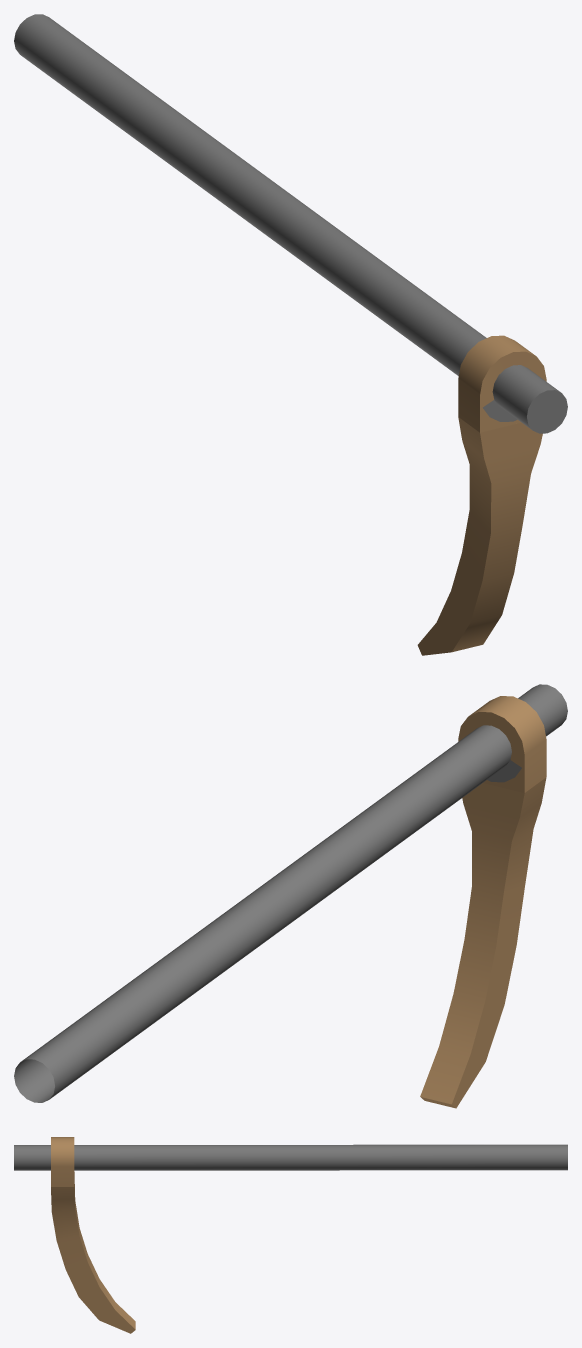
File: pickaxe_01.fbx
The picture shows the model from 3 angles, top to bottom: view 1: azimuth 30°, elevation 25°; view 2: azimuth 150°, elevation 25°; view 3: azimuth 270°, elevation 25°; orthographic projection. The views are drawn at different scales.
Parts seen in each view (by area): view 1: pickaxe_01; view 2: pickaxe_01; view 3: pickaxe_01.
Boxes of the visible parts, x1,y1,x2,y2 form: pickaxe_01: (14, 14, 567, 655); pickaxe_01: (14, 684, 567, 1108); pickaxe_01: (14, 1137, 567, 1333).
Size of the model in its own units: 6.69 by 34.02 by 89.38.
